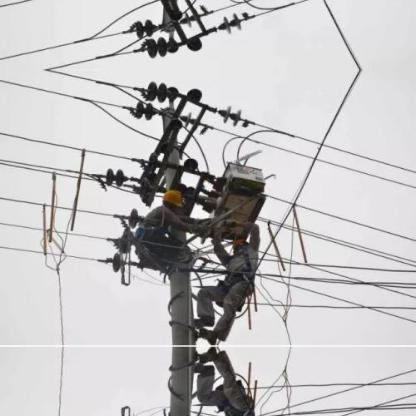Helmet: (160, 186, 186, 206), (230, 235, 250, 251)
